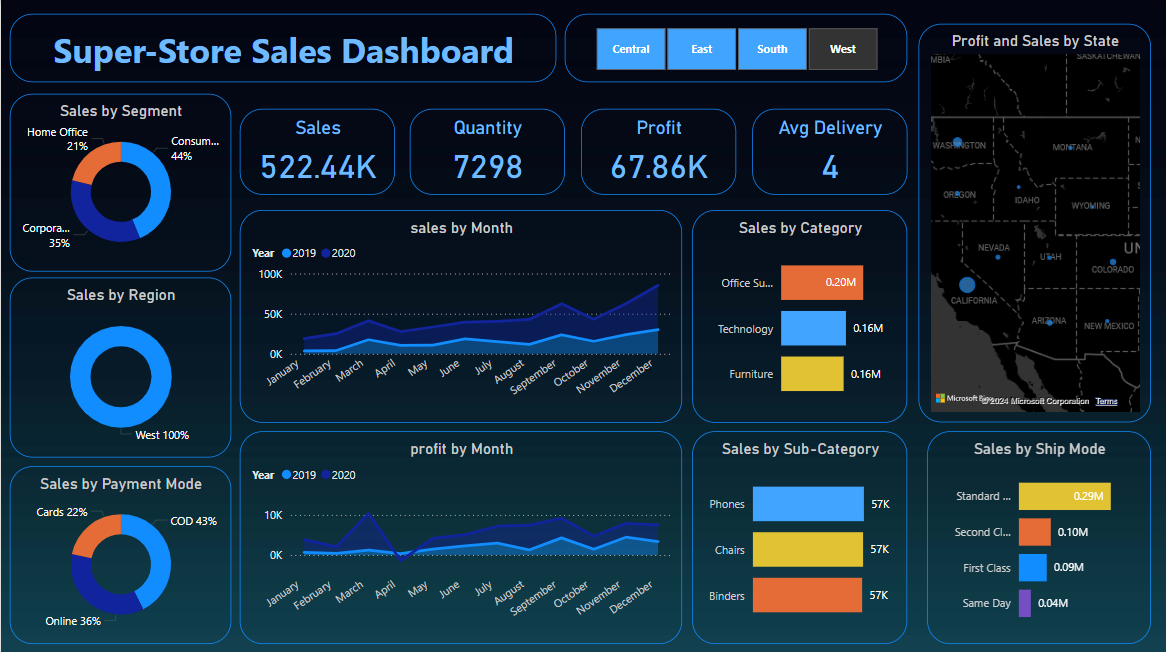

The page's visual inventory and layout, read from the dashboard file:
{"tool":"powerbi","page":{"name":"Super-Store Sales Dashboard","canvas":[1280,720],"ordinal":0},"visuals":[{"type":"clusteredBarChart","title":"Sales by Category","fields":{"Category":["SuperStore_Sales_Dataset.Category"],"Y":["Sum(SuperStore_Sales_Dataset.Sales)"]},"box":[758.8,230.5,236,233.3],"z":0},{"type":"clusteredBarChart","title":"Sales by Sub-Category","fields":{"Category":["SuperStore_Sales_Dataset.Sub-Category"],"Y":["Sum(SuperStore_Sales_Dataset.Sales)"]},"box":[758.8,473.4,236,233.3],"z":1000},{"type":"slicer","title":"Sales by Ship Mode","fields":{"Values":["SuperStore_Sales_Dataset.Region"]},"box":[618.9,15.1,376,75.5],"z":2000},{"type":"stackedAreaChart","title":"sales by Month","fields":{"Y":["Sum(SuperStore_Sales_Dataset.Sales)"],"Series":["SuperStore_Sales_Dataset.Order Date.Variation.Date Hierarchy.Year"],"Category":["SuperStore_Sales_Dataset.Order Date.Variation.Date Hierarchy.Month"]},"box":[262.1,230.5,485.8,233.3],"z":3000},{"type":"stackedAreaChart","title":"profit by Month","fields":{"Series":["SuperStore_Sales_Dataset.Order Date.Variation.Date Hierarchy.Year"],"Category":["SuperStore_Sales_Dataset.Order Date.Variation.Date Hierarchy.Month"],"Y":["Sum(SuperStore_Sales_Dataset.Profit)"]},"box":[262.1,473.4,485.8,233.3],"z":4000},{"type":"map","title":"Profit and Sales by State","fields":{"Category":["SuperStore_Sales_Dataset.State"],"Size":["Sum(SuperStore_Sales_Dataset.Sales)"]},"box":[1007.2,26.1,255.2,437.7],"z":5000},{"type":"donutChart","title":"Sales by Segment","fields":{"Category":["SuperStore_Sales_Dataset.Segment"],"Y":["Sum(SuperStore_Sales_Dataset.Sales)"]},"box":[9.6,102.9,242.9,194.9],"z":6000},{"type":"donutChart","title":"Sales by Region","fields":{"Category":["SuperStore_Sales_Dataset.Region"],"Y":["Sum(SuperStore_Sales_Dataset.Sales)"]},"box":[9.6,304.6,242.9,197.6],"z":7000},{"type":"donutChart","title":"Sales by Payment Mode","fields":{"Y":["Sum(SuperStore_Sales_Dataset.Sales)"],"Category":["SuperStore_Sales_Dataset.Payment Mode"]},"box":[9.6,511.8,242.9,194.9],"z":8000},{"type":"clusteredBarChart","title":"Sales by Ship Mode","fields":{"Category":["SuperStore_Sales_Dataset.Ship Mode"],"Y":["Sum(SuperStore_Sales_Dataset.Sales)"]},"box":[1016.8,473.4,245.6,233.3],"z":9000},{"type":"textbox","box":[9.6,15.1,599.7,75.5],"z":10000},{"type":"card","title":"Sales","fields":{"Values":["Sum(SuperStore_Sales_Dataset.Sales)"]},"box":[262.1,119.4,170.2,94.7],"z":11000},{"type":"card","title":"Quantity","fields":{"Values":["Sum(SuperStore_Sales_Dataset.Quantity)"]},"box":[448.7,119.4,170.2,94.7],"z":12000},{"type":"card","title":"Profit","fields":{"Values":["Sum(SuperStore_Sales_Dataset.Profit)"]},"box":[636.7,119.4,170.2,94.7],"z":13000},{"type":"card","title":"Avg Delivery","fields":{"Values":["Avg(SuperStore_Sales_Dataset.AvgDelivery)"]},"box":[824.7,119.4,170.2,94.7],"z":14000}]}

Visuals, with their boxes in screenshot pixels (x1, y1, x2, y2), scaled from the page's 1280x720 canvas onto the 1166x652 screenshot:
"Sales by Category" clusteredBarChart: {"x1": 691, "y1": 209, "x2": 906, "y2": 420}
"Sales by Sub-Category" clusteredBarChart: {"x1": 691, "y1": 429, "x2": 906, "y2": 640}
"Sales by Ship Mode" slicer: {"x1": 564, "y1": 14, "x2": 906, "y2": 82}
"sales by Month" stackedAreaChart: {"x1": 239, "y1": 209, "x2": 681, "y2": 420}
"profit by Month" stackedAreaChart: {"x1": 239, "y1": 429, "x2": 681, "y2": 640}
"Profit and Sales by State" map: {"x1": 917, "y1": 24, "x2": 1150, "y2": 420}
"Sales by Segment" donutChart: {"x1": 9, "y1": 93, "x2": 230, "y2": 270}
"Sales by Region" donutChart: {"x1": 9, "y1": 276, "x2": 230, "y2": 455}
"Sales by Payment Mode" donutChart: {"x1": 9, "y1": 463, "x2": 230, "y2": 640}
"Sales by Ship Mode" clusteredBarChart: {"x1": 926, "y1": 429, "x2": 1150, "y2": 640}
textbox: {"x1": 9, "y1": 14, "x2": 555, "y2": 82}
"Sales" card: {"x1": 239, "y1": 108, "x2": 394, "y2": 194}
"Quantity" card: {"x1": 409, "y1": 108, "x2": 564, "y2": 194}
"Profit" card: {"x1": 580, "y1": 108, "x2": 735, "y2": 194}
"Avg Delivery" card: {"x1": 751, "y1": 108, "x2": 906, "y2": 194}
